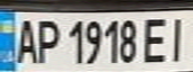1: (63, 16, 84, 65), (103, 16, 121, 64)
8: (118, 16, 142, 64)
9: (81, 16, 103, 65)
A: (9, 15, 39, 65)
E: (139, 15, 172, 64)
I: (163, 12, 193, 64)
P: (33, 16, 60, 65)
